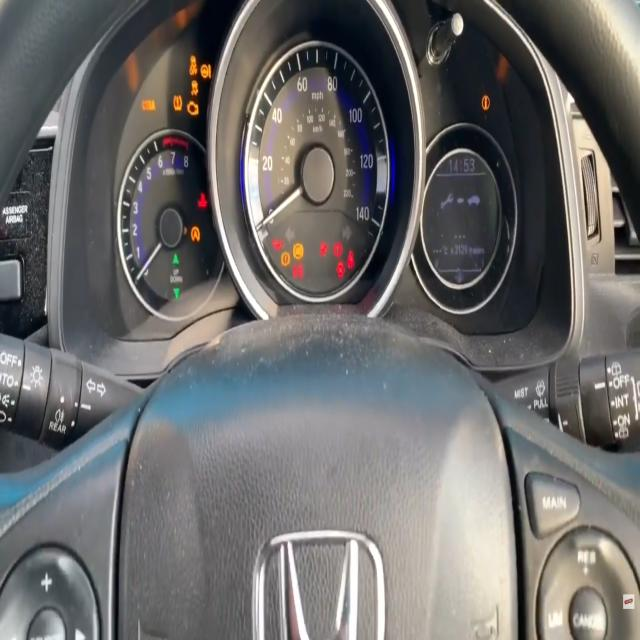Anti Lock Braking System: (292, 243, 304, 259)
Braking System Issue: (332, 242, 342, 257)
Charging System Issue: (292, 264, 302, 278)
Check Engine: (187, 100, 199, 116)
Electronic Stability Problem -ESP-: (191, 80, 199, 96)
Engine Overheating Warning Light: (198, 192, 208, 208)
Low Engine Oil Warning Light: (272, 238, 284, 250)
Low Tire Pressure Warning Light: (174, 95, 182, 111)
SRS-Airbag: (319, 242, 329, 258)
